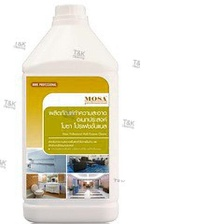cleaning_solution: (19, 2, 121, 224)
